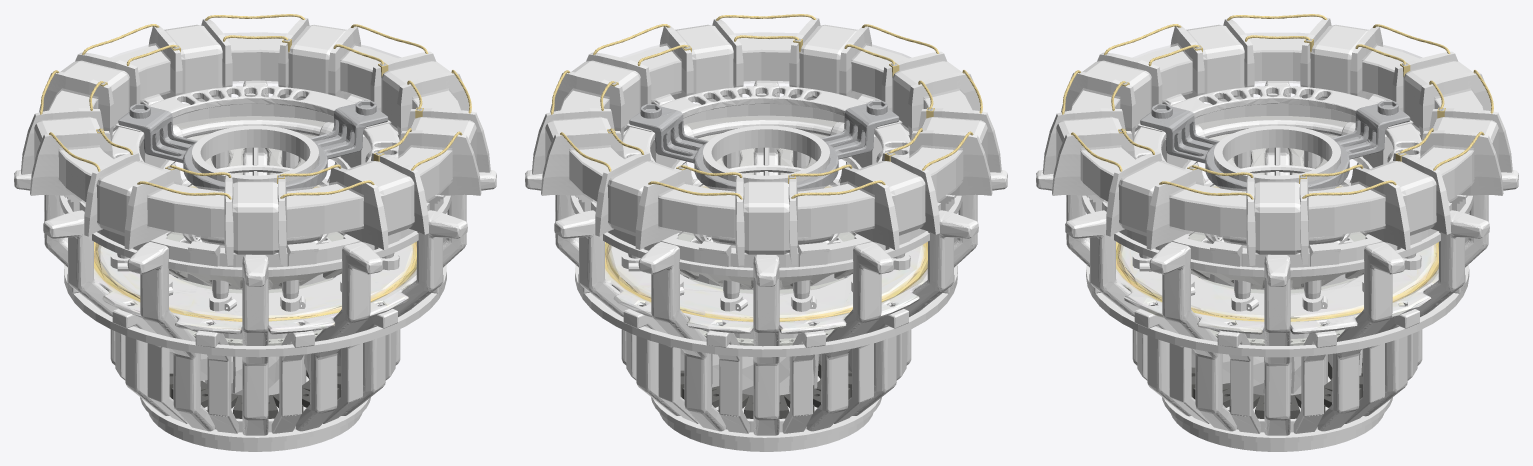
The model's file is atlas-arc-reactor.glb.
3 renders of one model, left to right at view 1: azimuth 30°, elevation 25°; view 2: azimuth 150°, elevation 25°; view 3: azimuth 270°, elevation 25°, orthographic.
Parts seen in each view (by area): view 1: main_base, Box (×9), Box 1 (×9), BEAM, glass, capacitors_base, base_main_parts, base_support, regulator_shield 1, base_sup_top_part, Cylinder, capacitors (×2) (+10 smaller); view 2: main_base, Box (×9), Box 1 (×9), BEAM, glass, capacitors_base, base_main_parts, base_support, regulator_shield 1, Cylinder, base_sup_top_part, capacitors (×2) (+10 smaller); view 3: main_base, Box (×9), Box 1 (×9), BEAM, glass, capacitors_base, base_main_parts, base_support, regulator_shield 1, Cylinder, base_sup_top_part, capacitors (×2) (+10 smaller).
Part boxes in pixels (box(x1,y1,x2,y2)): main_base: box(14, 80, 496, 435); Box (×9): box(21, 17, 490, 265); Box 1 (×9): box(34, 24, 476, 254); BEAM: box(49, 34, 460, 237); glass: box(49, 32, 461, 239); capacitors_base: box(94, 179, 416, 334); base_main_parts: box(64, 264, 446, 451); base_support: box(118, 103, 388, 191); regulator_shield 1: box(111, 86, 399, 162); base_sup_top_part: box(79, 103, 429, 267); Cylinder: box(192, 125, 318, 183); capacitors (×2): box(110, 122, 399, 311); main_base: box(525, 80, 1007, 435); Box (×9): box(532, 17, 1001, 265); Box 1 (×9): box(545, 24, 987, 254); BEAM: box(561, 34, 972, 237); glass: box(560, 32, 972, 239); capacitors_base: box(605, 179, 927, 334); base_main_parts: box(575, 265, 957, 451); base_support: box(629, 103, 899, 191); regulator_shield 1: box(622, 86, 910, 162); Cylinder: box(703, 125, 829, 183); base_sup_top_part: box(591, 103, 940, 267); capacitors (×2): box(621, 122, 910, 311); main_base: box(1036, 81, 1518, 435); Box (×9): box(1042, 17, 1512, 265); Box 1 (×9): box(1056, 24, 1498, 254); BEAM: box(1072, 34, 1482, 237); glass: box(1071, 33, 1483, 239); capacitors_base: box(1116, 179, 1438, 334); base_main_parts: box(1086, 265, 1469, 451); base_support: box(1140, 103, 1410, 191); regulator_shield 1: box(1133, 86, 1421, 185); Cylinder: box(1214, 125, 1340, 183); base_sup_top_part: box(1102, 103, 1451, 267); capacitors (×2): box(1132, 122, 1421, 311).
Size of the model in its own units: 1.85 by 1.3 by 1.85.
38 materials, 12 textured.
